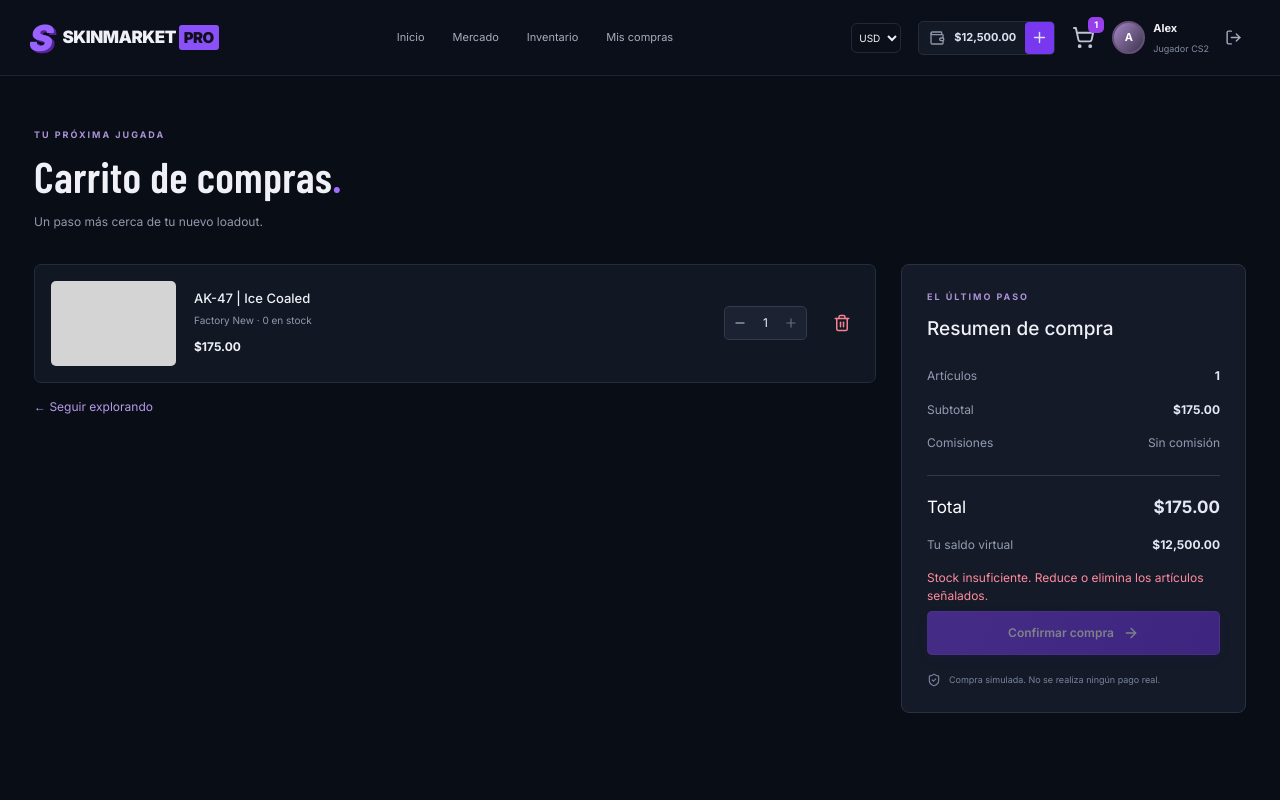
Pantallas y flujos del usuario › bloquea stock insuficiente y presenta compras vacías
Expected: the message shows "Stock insuficiente", [927, 570, 1204, 603]
Step 1. Click the link "Mis compras" → click(640, 37), box [606, 30, 673, 44]
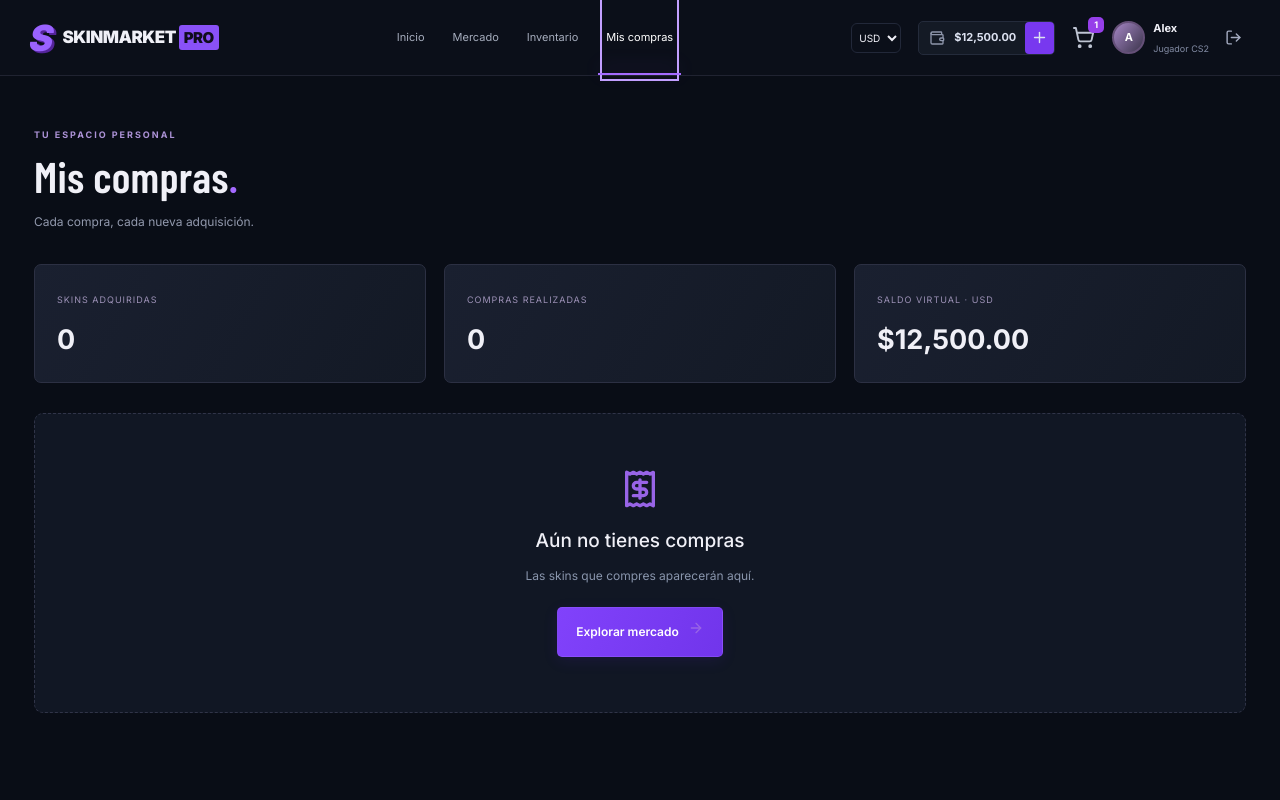
Expected: the heading "Aún no tienes compras" is shown, [536, 530, 744, 553]
Step 2. Click the link "Inventario" → click(553, 37), box [527, 30, 578, 44]
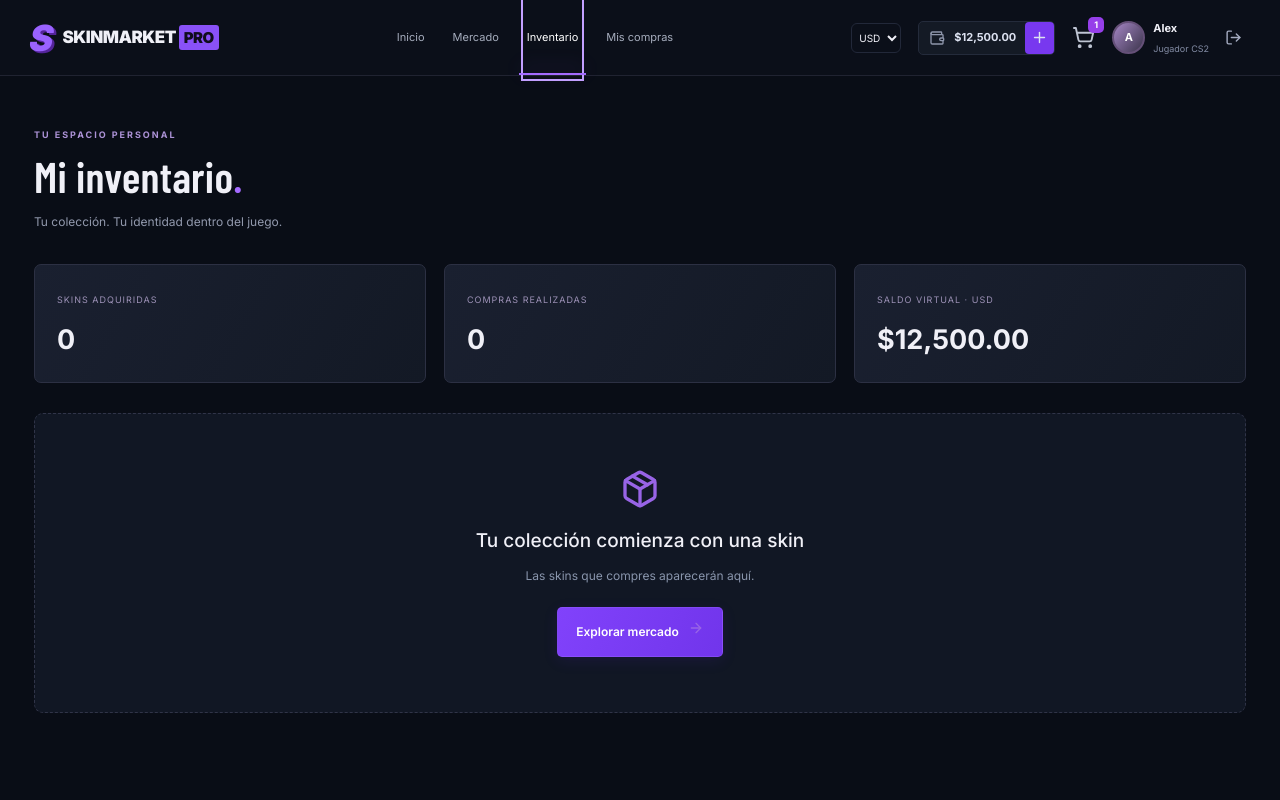
Expected: the heading "Tu colección comienza con una skin" is shown, [476, 530, 804, 553]
